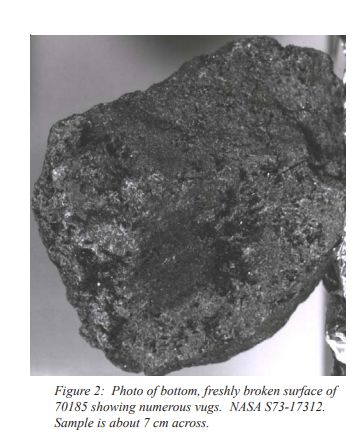Basalt: (45, 74, 346, 372)
